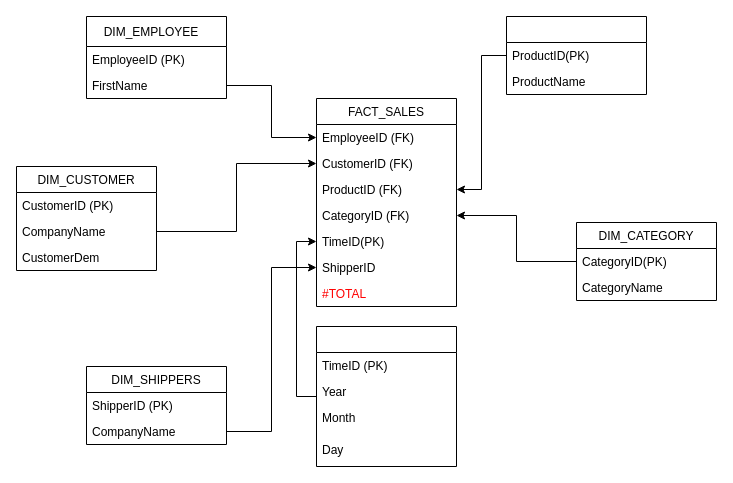
This 733x483 diagram has some shape labels left out. Each missing label, with the box of its shape:
DIM_PRODUCTS: (506, 16, 646, 94)
DIM_TIME: (316, 326, 456, 466)
